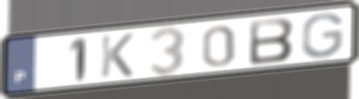0: (199, 24, 241, 68)
1: (68, 36, 87, 82)
3: (148, 23, 190, 78)
B: (247, 15, 297, 67)
G: (299, 11, 346, 60)
K: (98, 31, 137, 79)
